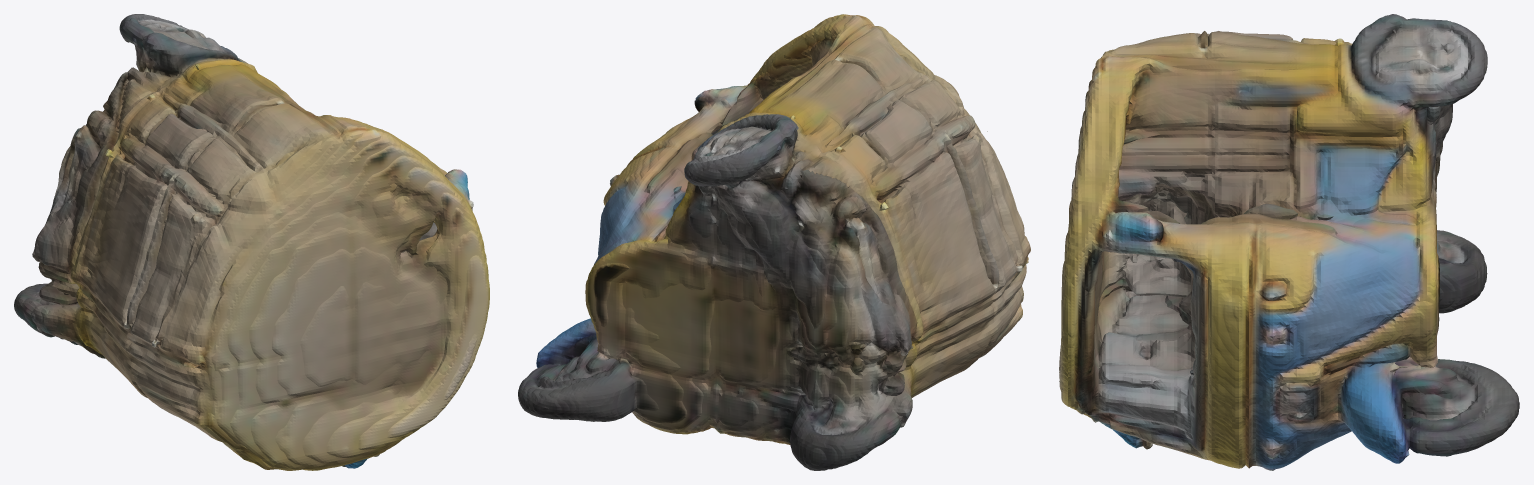
The model's file is tuktuk.glb.
3 renders of one model, left to right at view 1: azimuth 30°, elevation 25°; view 2: azimuth 150°, elevation 25°; view 3: azimuth 270°, elevation 25°, orthographic. The views are drawn at different scales.
Parts seen in each view (by area): view 1: geometry_0; view 2: geometry_0; view 3: geometry_0.
Boxes of the visible parts, x1,y1,x2,y2 form: geometry_0: (14, 14, 489, 470); geometry_0: (518, 14, 1030, 470); geometry_0: (1059, 14, 1519, 470).
Bounding box in the file's own units: 0.8892 × 0.864 × 0.9198.
